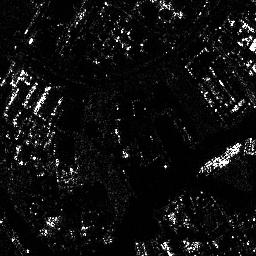ship: (197, 140, 242, 174)
